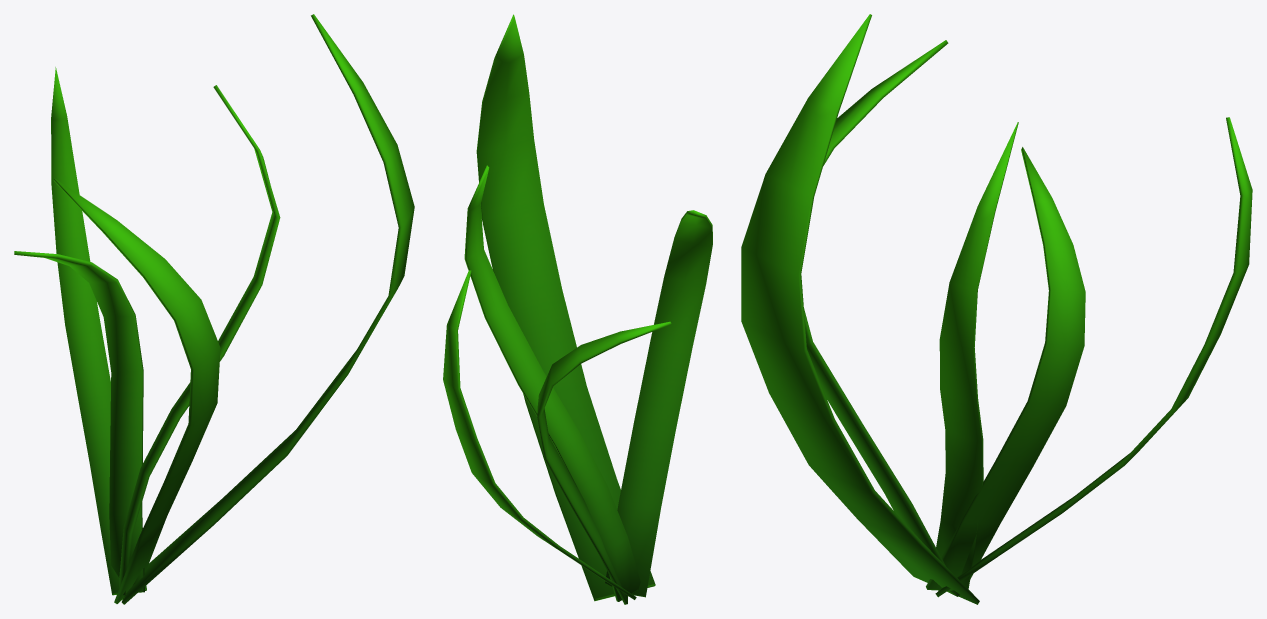
Rendered from hierba_3.fbx.
3 renders of one model, left to right at view 1: azimuth 30°, elevation 25°; view 2: azimuth 150°, elevation 25°; view 3: azimuth 270°, elevation 25°, orthographic. The views are drawn at different scales.
Parts seen in each view (by area): view 1: Cesped_nuevo_3; view 2: Cesped_nuevo_3; view 3: Cesped_nuevo_3.
Boxes of the visible parts, <box> form: Cesped_nuevo_3: <box>14,14,414,604</box>; Cesped_nuevo_3: <box>443,14,712,604</box>; Cesped_nuevo_3: <box>741,14,1252,604</box>.
Bounding box in the file's own units: 25.88 × 46.11 × 31.91.
Materials: 1 (1 with a texture image).
